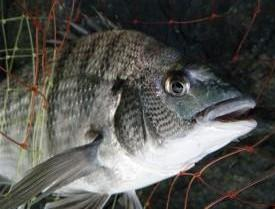fish: (0, 0, 257, 208)
